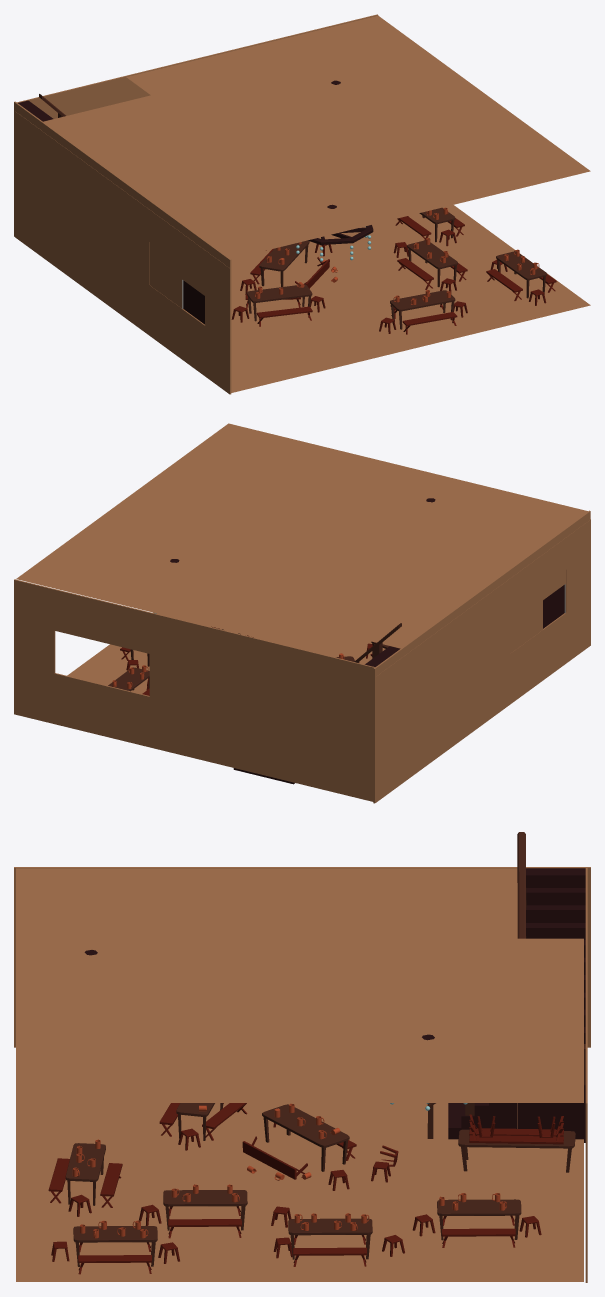
Rendered from Tavern Bar Scene 2.fbx.
3 views of the same model, one above another, from view 1: azimuth 30°, elevation 25°; view 2: azimuth 150°, elevation 25°; view 3: azimuth 270°, elevation 25° (orthographic). The views are drawn at different scales.
Visible parts, largest first — view 1: pPlane2, pPlane1, Tavern_Bar2:polySurface2, polySurface1, Tavern_Bar:polySurface2, Tavern_Tables_2:Table_Middle3, Tavern_Tables_2:Table_Middle, Table_Middle3, Table_Middle5, Table_Middle6, pCube13, Chandaler:pCylinder1; view 2: pPlane2, Tavern_Bar:polySurface2, Tavern_Bar2:polySurface2, polySurface1, pPlane1, pCube13, Table_Middle7; view 3: pPlane2, pPlane1, Stairs1:polySurface1, polySurface1, Tavern_Tables_2:Table_Middle, Stairs1:Front_Staris, Stairs1:Front_Staris1, Table_Middle7, Table_Middle5, Table_Middle6, Table_Middle4, Table_Middle3 (+11 smaller).
Part boxes in pixels (x1=…): pPlane2: x1=43, y1=15, x2=590, y2=258; pPlane1: x1=231, y1=205, x2=590, y2=392; Tavern_Bar2:polySurface2: x1=15, y1=111, x2=231, y2=394; polySurface1: x1=14, y1=101, x2=231, y2=325; Tavern_Bar:polySurface2: x1=17, y1=14, x2=378, y2=118; Tavern_Tables_2:Table_Middle3: x1=246, y1=284, x2=312, y2=321; Tavern_Tables_2:Table_Middle: x1=259, y1=240, x2=309, y2=287; Table_Middle3: x1=390, y1=290, x2=455, y2=329; Table_Middle5: x1=407, y1=240, x2=457, y2=287; Table_Middle6: x1=496, y1=251, x2=546, y2=298; pCube13: x1=183, y1=280, x2=204, y2=324; Chandaler:pCylinder1: x1=307, y1=204, x2=373, y2=244; pPlane2: x1=16, y1=423, x2=587, y2=648; Tavern_Bar:polySurface2: x1=14, y1=579, x2=374, y2=801; Tavern_Bar2:polySurface2: x1=376, y1=519, x2=590, y2=802; polySurface1: x1=373, y1=510, x2=590, y2=803; pPlane1: x1=67, y1=612, x2=385, y2=693; pCube13: x1=543, y1=585, x2=564, y2=628; Table_Middle7: x1=108, y1=667, x2=149, y2=691; pPlane2: x1=16, y1=868, x2=583, y2=1102; pPlane1: x1=16, y1=1103, x2=583, y2=1281; Stairs1:polySurface1: x1=526, y1=868, x2=585, y2=1043; polySurface1: x1=14, y1=867, x2=590, y2=1047; Tavern_Tables_2:Table_Middle: x1=262, y1=1104, x2=349, y2=1171; Stairs1:Front_Staris: x1=518, y1=1084, x2=585, y2=1142; Stairs1:Front_Staris1: x1=448, y1=1103, x2=517, y2=1139; Table_Middle7: x1=437, y1=1199, x2=521, y2=1240; Table_Middle5: x1=163, y1=1190, x2=247, y2=1230; Table_Middle6: x1=73, y1=1226, x2=157, y2=1266; Table_Middle4: x1=288, y1=1218, x2=372, y2=1259; Table_Middle3: x1=65, y1=1143, x2=105, y2=1205.
Size of the model in its own units: 108 by 46.54 by 112.
Materials: 8 (7 with a texture image).
